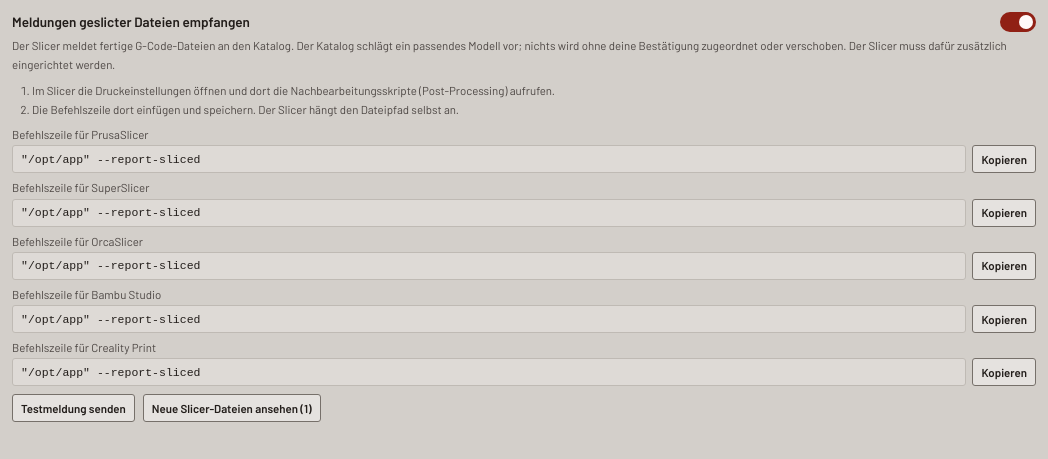
Test: settings › sends a test report and tells where it shows up; a failure is reported
Step 1. Click the button "Testmeldung senden" → (73, 408), box [12, 394, 135, 422]
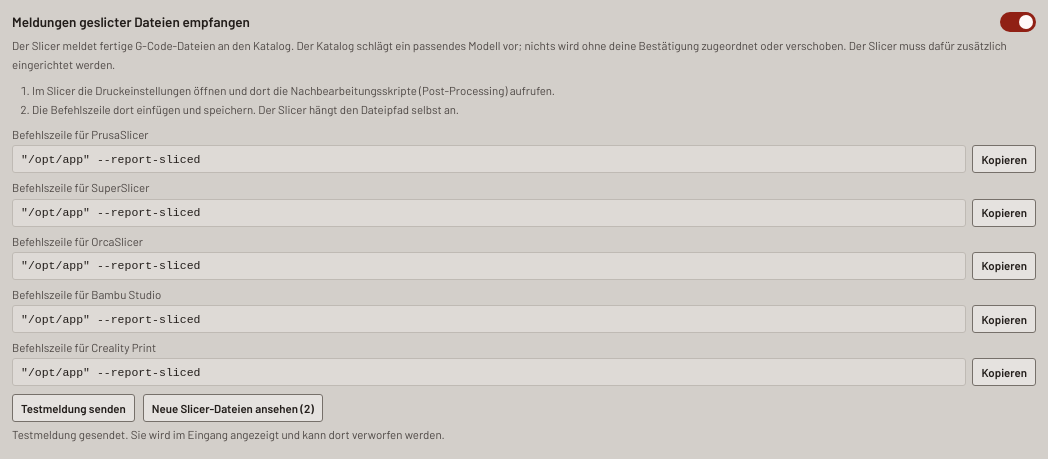
expect the text "Testmeldung gesendet" is shown: met, box [12, 427, 445, 441]
Step 2. Click the button "Testmeldung senden" → (73, 408), box [12, 394, 135, 422]
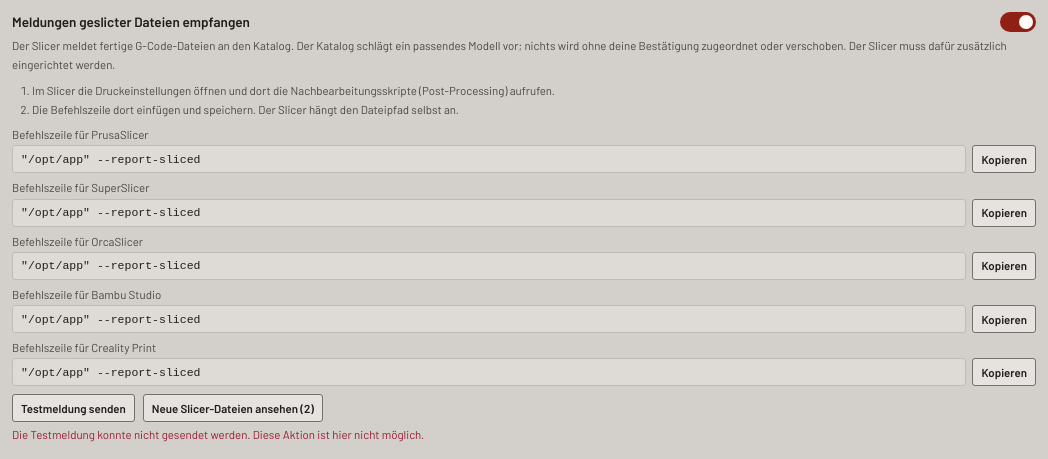
expect the message shows "Die Testmeldung konnte nicht gesendet werden.": met, box [12, 427, 250, 441]
